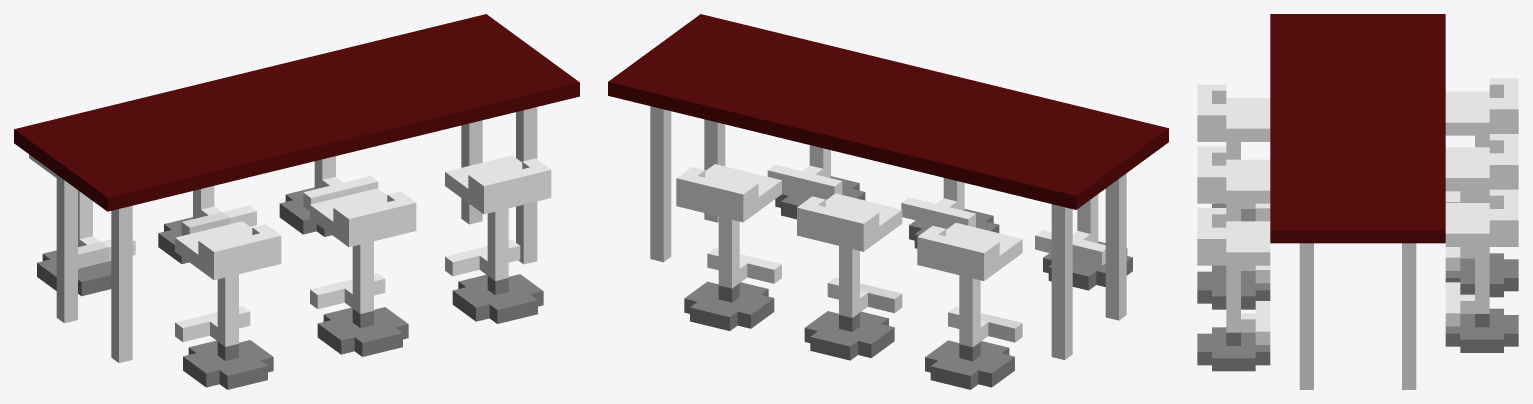
Rendered from 4er-tisch-verl-39-standup meeting.obj.
3 renders of one model, left to right at view 1: azimuth 30°, elevation 25°; view 2: azimuth 150°, elevation 25°; view 3: azimuth 270°, elevation 25°, orthographic. The views are drawn at different scales.
Parts seen in each view (by area): view 1: standup meeting; view 2: standup meeting; view 3: standup meeting.
Part boxes in pixels (left/top/right/bottom): standup meeting: left=14, top=14, right=579, bottom=389; standup meeting: left=608, top=14, right=1168, bottom=389; standup meeting: left=1197, top=14, right=1518, bottom=389.
Bounding box in the file's own units: 3.5 × 1.3 × 2.2.
1 material, 1 textured.
